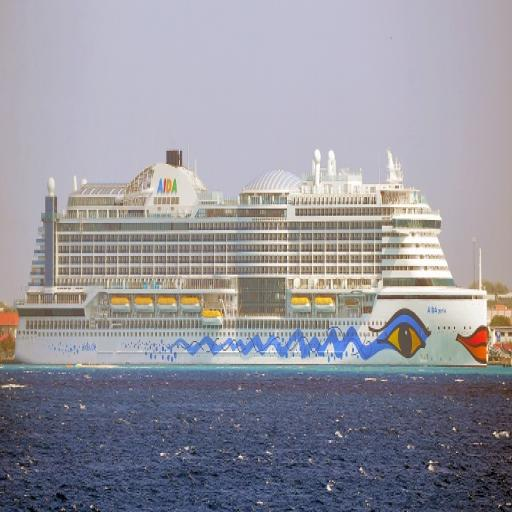cruises: (15, 141, 500, 390)
